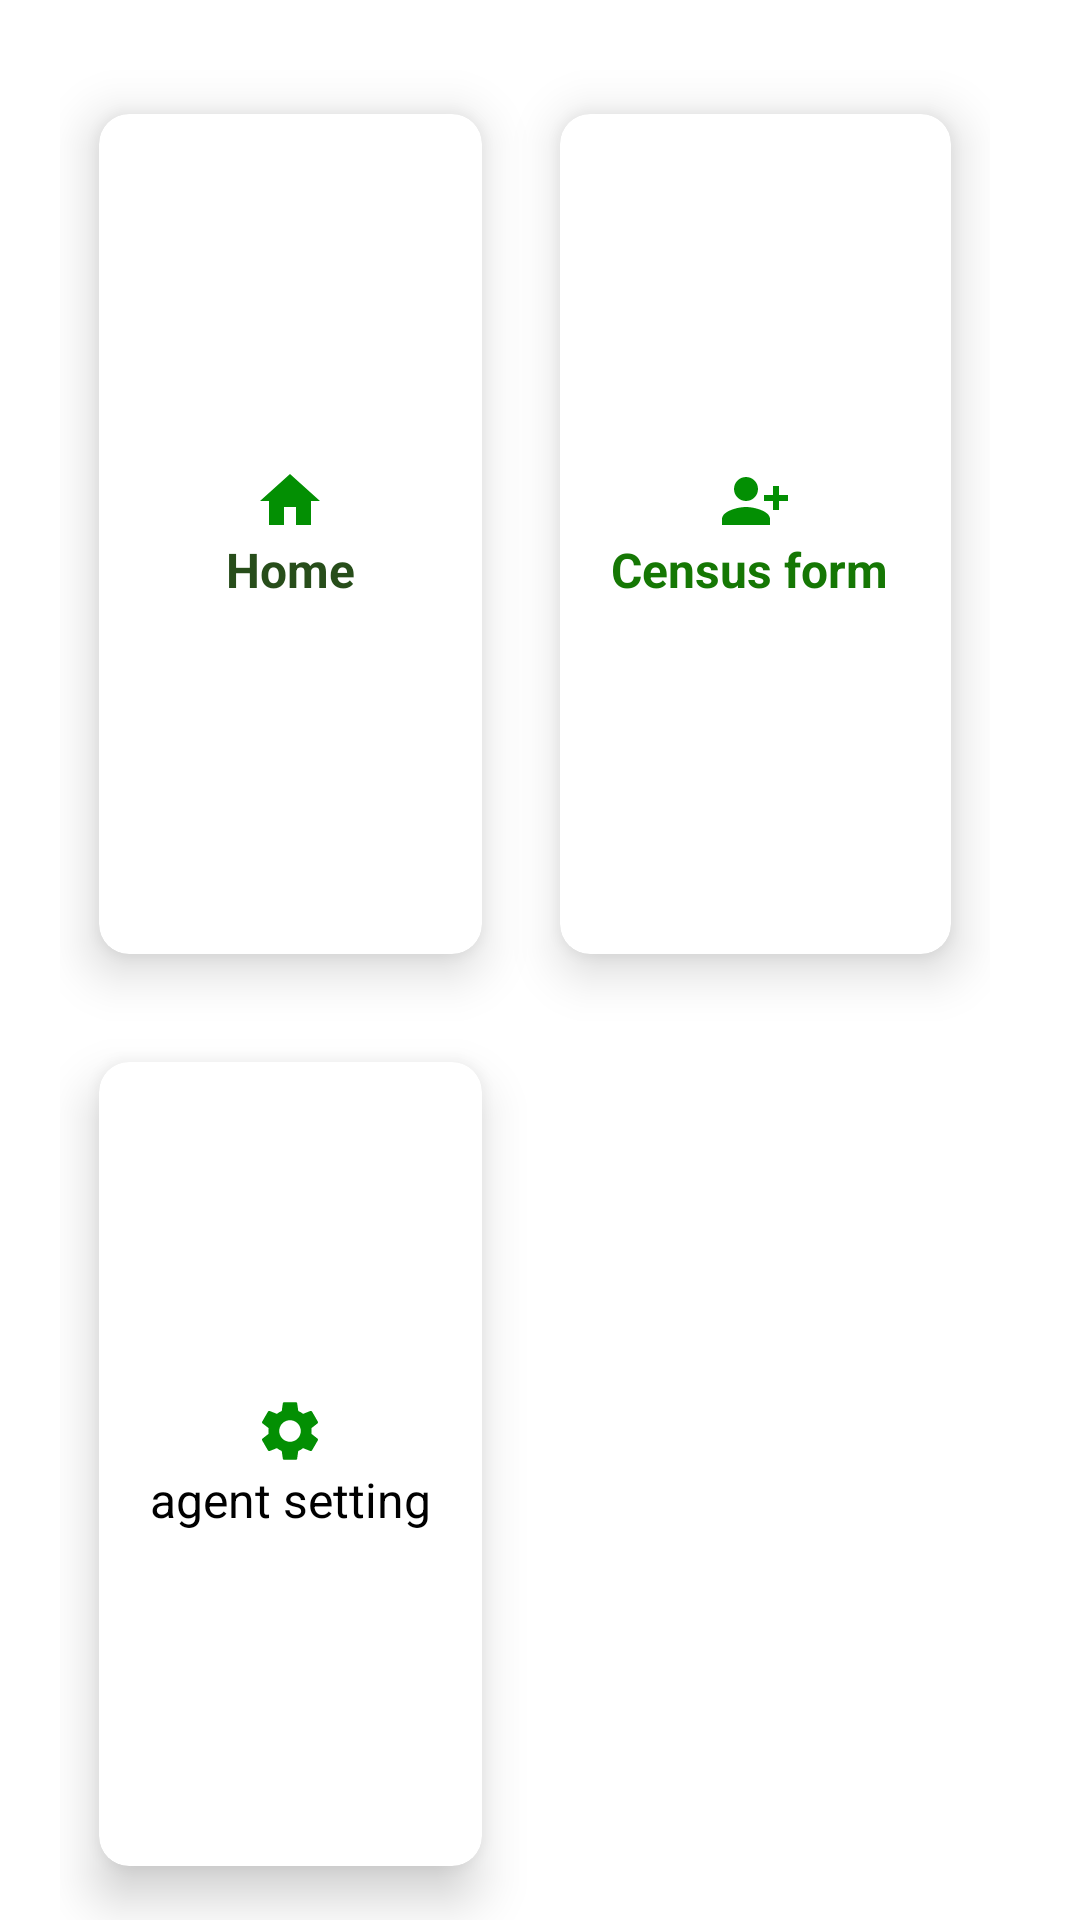

Screen size 1080x1920. Icon name, then its box in pixels as (x1, y1, x2, y2):
person add: (722, 477, 788, 525)
